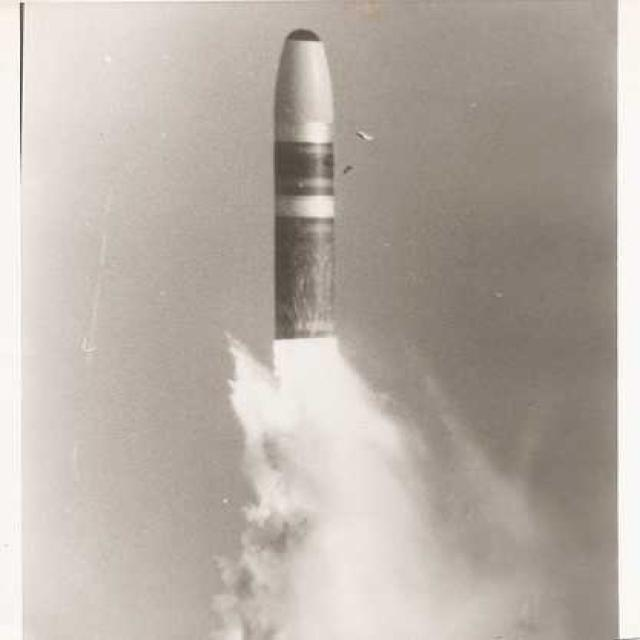missile: (265, 26, 349, 352)
